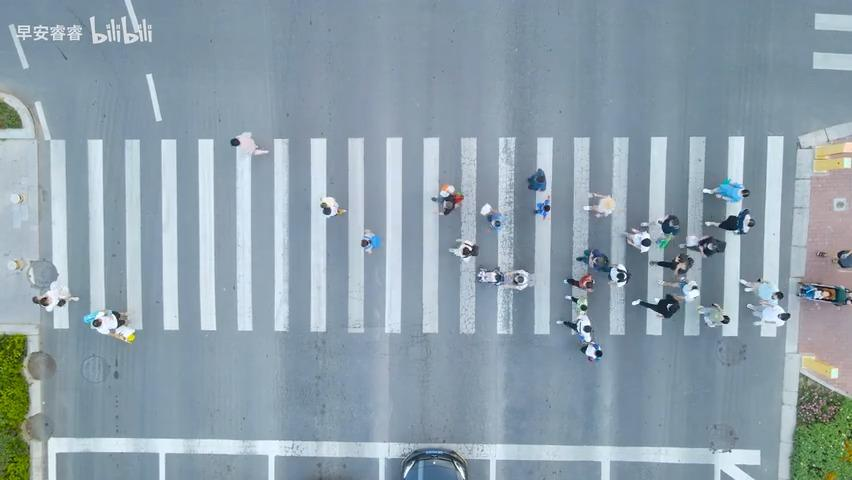Civilian: (83, 308, 135, 342), (558, 309, 601, 348), (746, 290, 790, 327), (639, 213, 680, 249), (32, 281, 79, 312), (631, 292, 683, 319), (704, 208, 755, 234), (796, 281, 851, 305), (701, 177, 750, 203), (476, 266, 529, 290), (738, 277, 783, 305), (648, 252, 694, 276), (431, 183, 464, 215), (657, 277, 699, 302), (229, 131, 269, 157), (683, 234, 725, 257), (583, 191, 615, 218), (696, 302, 730, 327), (576, 248, 609, 271), (623, 226, 651, 253), (480, 202, 504, 229), (563, 273, 595, 292), (448, 239, 478, 259), (607, 263, 631, 287), (319, 196, 346, 217), (360, 228, 380, 254), (564, 294, 588, 315), (526, 168, 546, 191), (579, 341, 602, 361), (533, 195, 550, 220), (833, 249, 851, 268)
